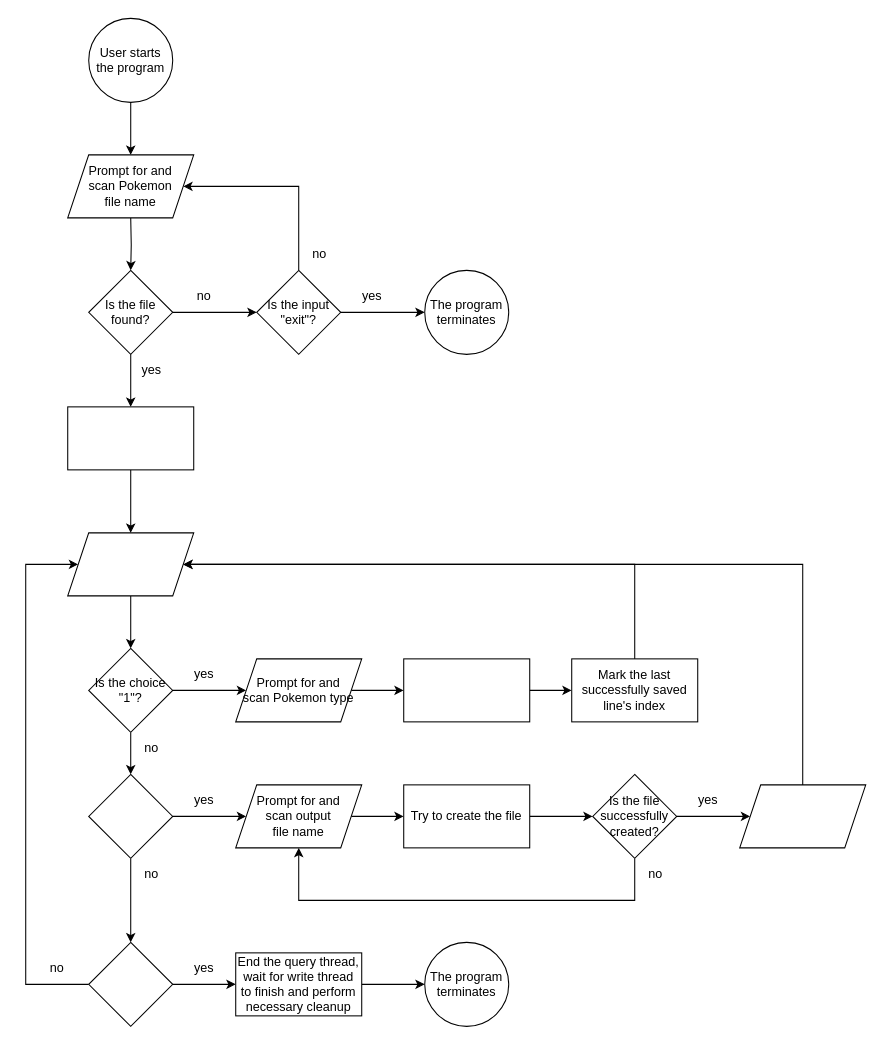
The diagram is 884 pixels wide and 1045 high, and some of its shapes have lost their labels. Here are the shapes that lost their labels. From the top down, the centre of each, then its label:
(130,438): Allocate memory for query results and create thread argument variables
(130,564): Display the menu and scan user's choice
(466,690): Loop through the Pokemon file and add all matching lines to result
(130,815): Is the choice "2"?
(802,816): Save all results up to the index saved in the last completed query
(130,983): Is the choice "3"?
